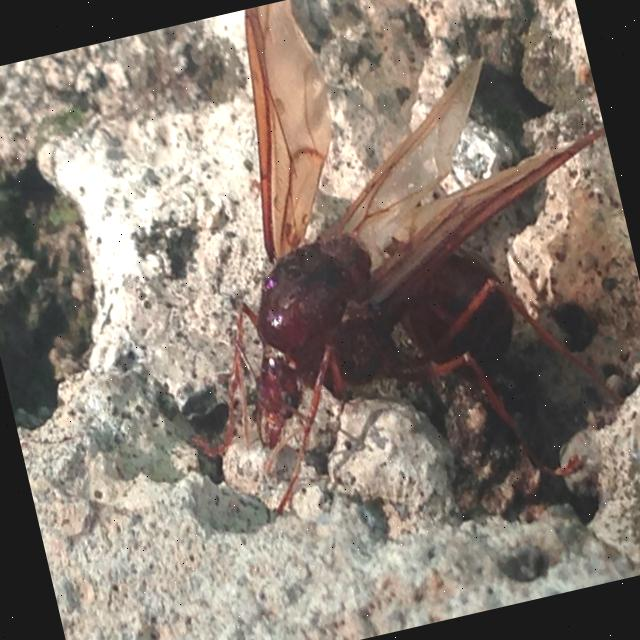Alive-Male-Alate: (99, 0, 640, 556)
